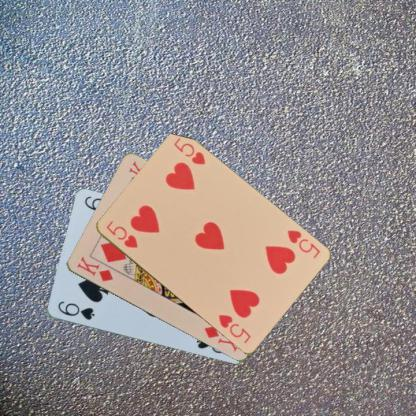5h: (284, 227, 322, 260), (104, 218, 140, 250)
6s: (55, 299, 96, 322)
Kd: (74, 254, 114, 283)
